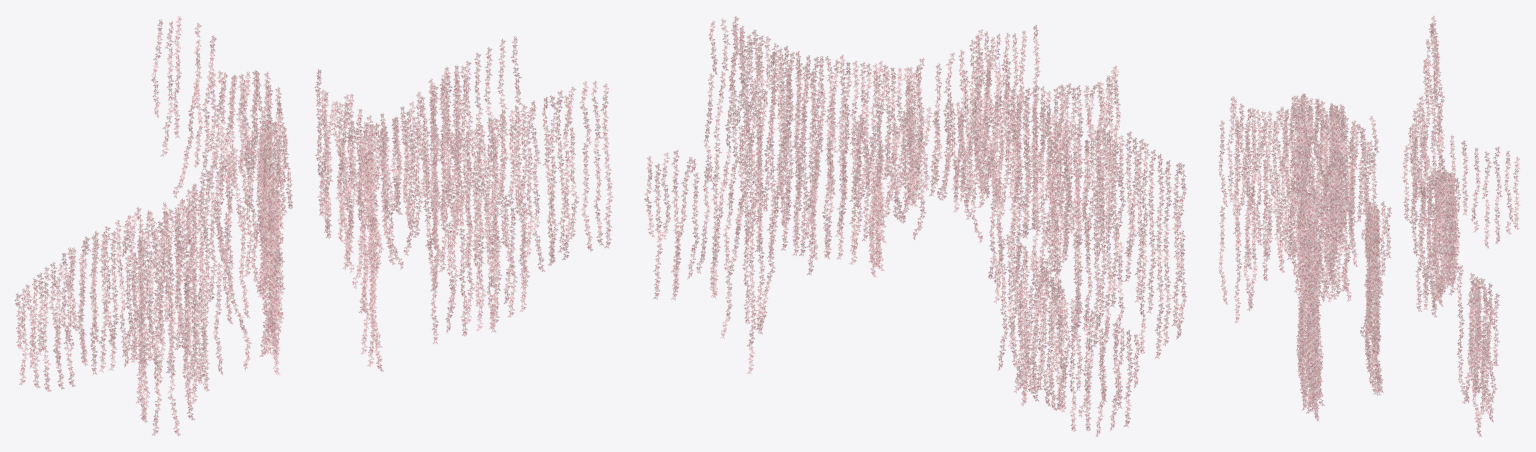
Rendered from sdtest02.glb.
3 renders of one model, left to right at view 1: azimuth 30°, elevation 25°; view 2: azimuth 150°, elevation 25°; view 3: azimuth 270°, elevation 25°, orthographic. The views are drawn at different scales.
Visible parts, largest first — view 1: shidarezakura_hanaSide0; view 2: shidarezakura_hanaSide0; view 3: shidarezakura_hanaSide0.
Boxes of the visible parts, box(x1,y1,x2,y2) form: shidarezakura_hanaSide0: box(14, 16, 613, 436); shidarezakura_hanaSide0: box(644, 16, 1187, 437); shidarezakura_hanaSide0: box(1218, 16, 1520, 436).
Bounding box in the file's own units: 5.46 × 3.61 × 3.12.
Materials: 1 (1 with a texture image).
